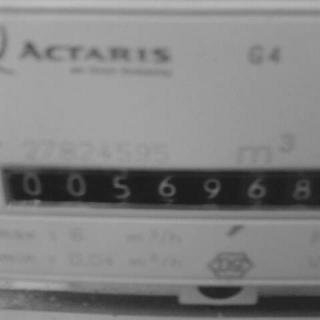1: (62, 171, 88, 201), (17, 172, 45, 199)
6: (109, 174, 135, 201)
7: (244, 174, 273, 202), (154, 173, 182, 200)
9: (285, 176, 319, 204)
:: (199, 177, 225, 204)
